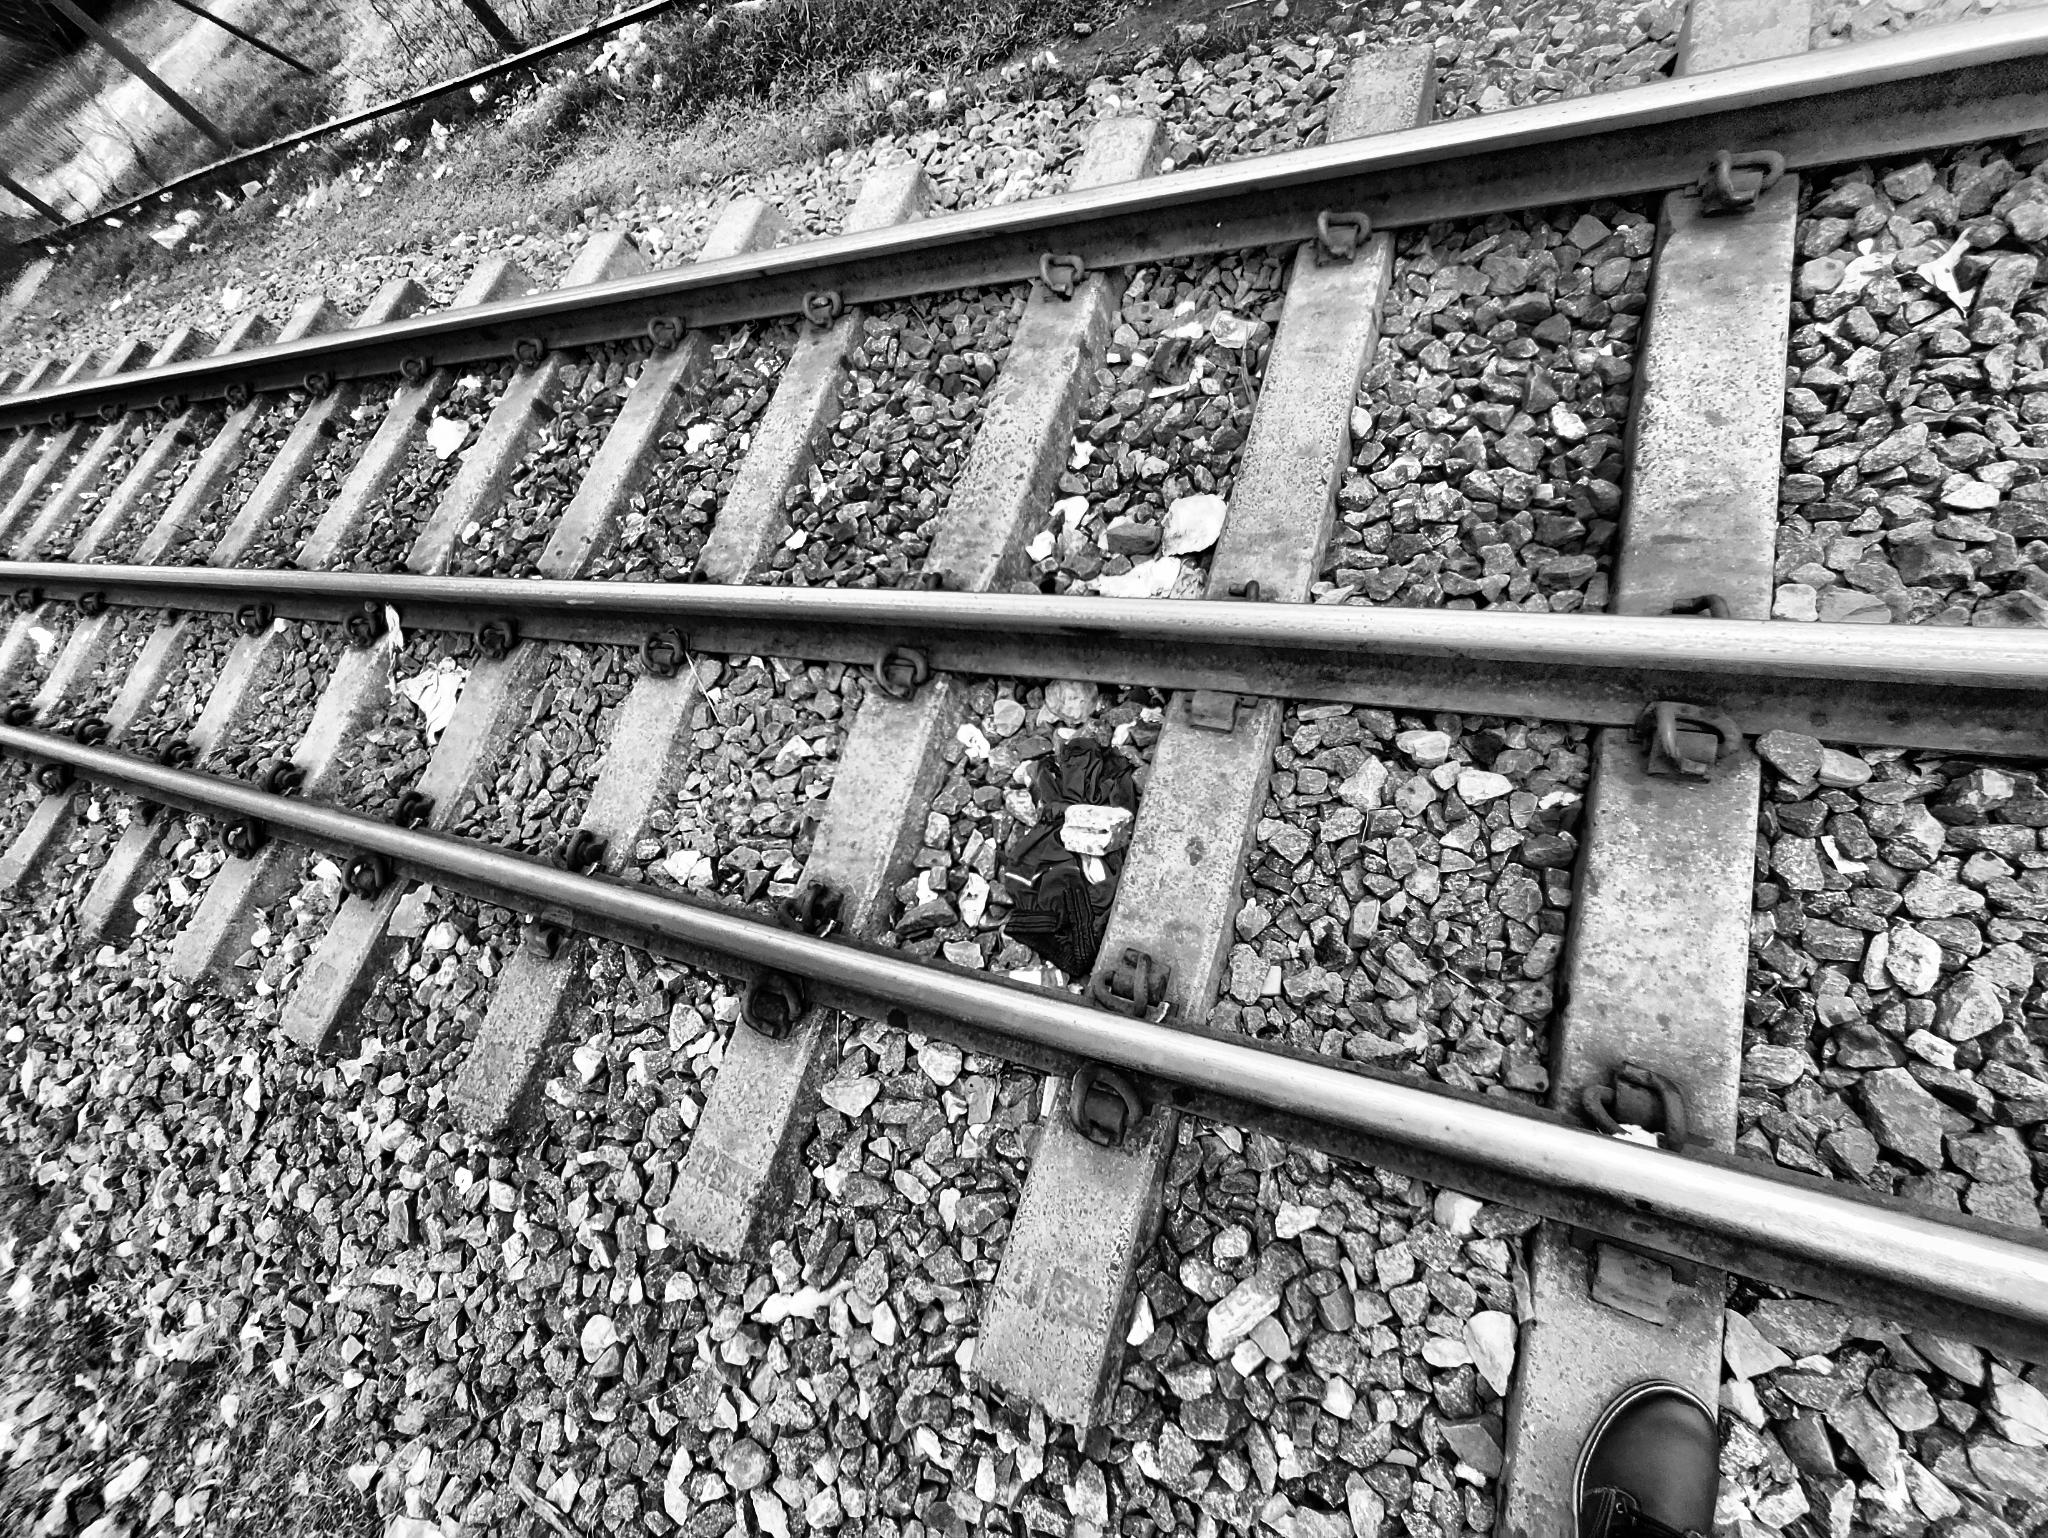Trash: (959, 717, 1155, 1008)
